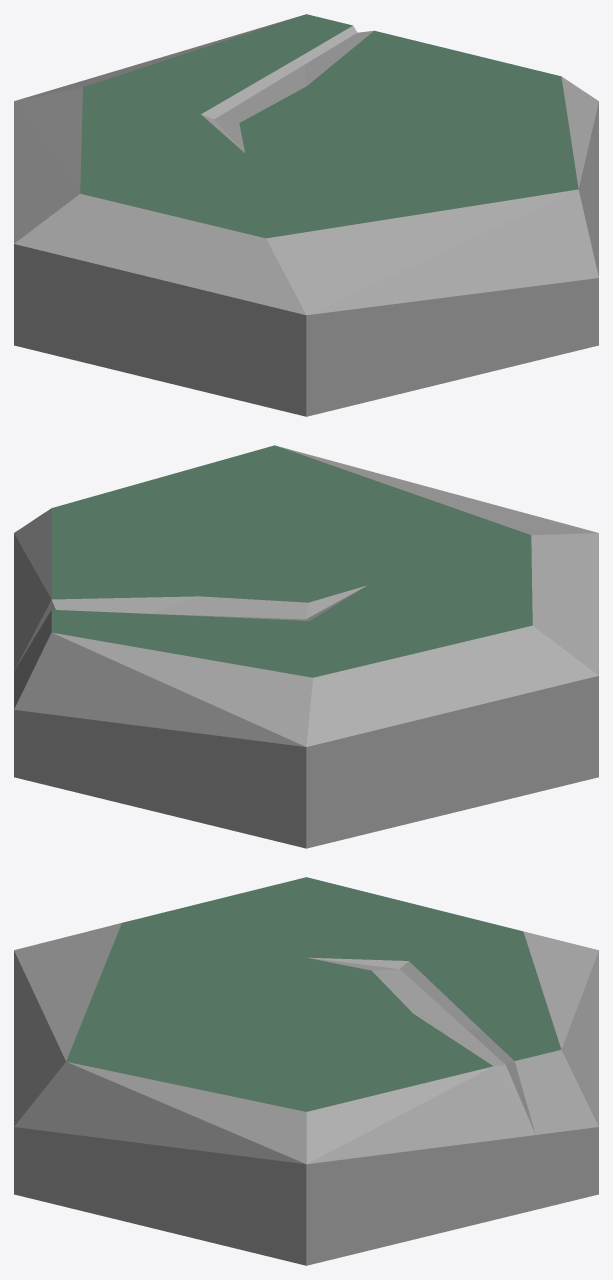
The model's file is Hex04.fbx.
3 views of the same model, one above another, from view 1: azimuth 30°, elevation 25°; view 2: azimuth 150°, elevation 25°; view 3: azimuth 270°, elevation 25° (orthographic).
Parts seen in each view (by area): view 1: Hex04; view 2: Hex04; view 3: Hex04.
Part boxes in pixels (x1,y1,x2,y2): Hex04: (14, 14, 598, 416); Hex04: (14, 445, 598, 848); Hex04: (14, 877, 598, 1265).
Size of the model in its own units: 1.67 by 0.3694 by 1.44.
